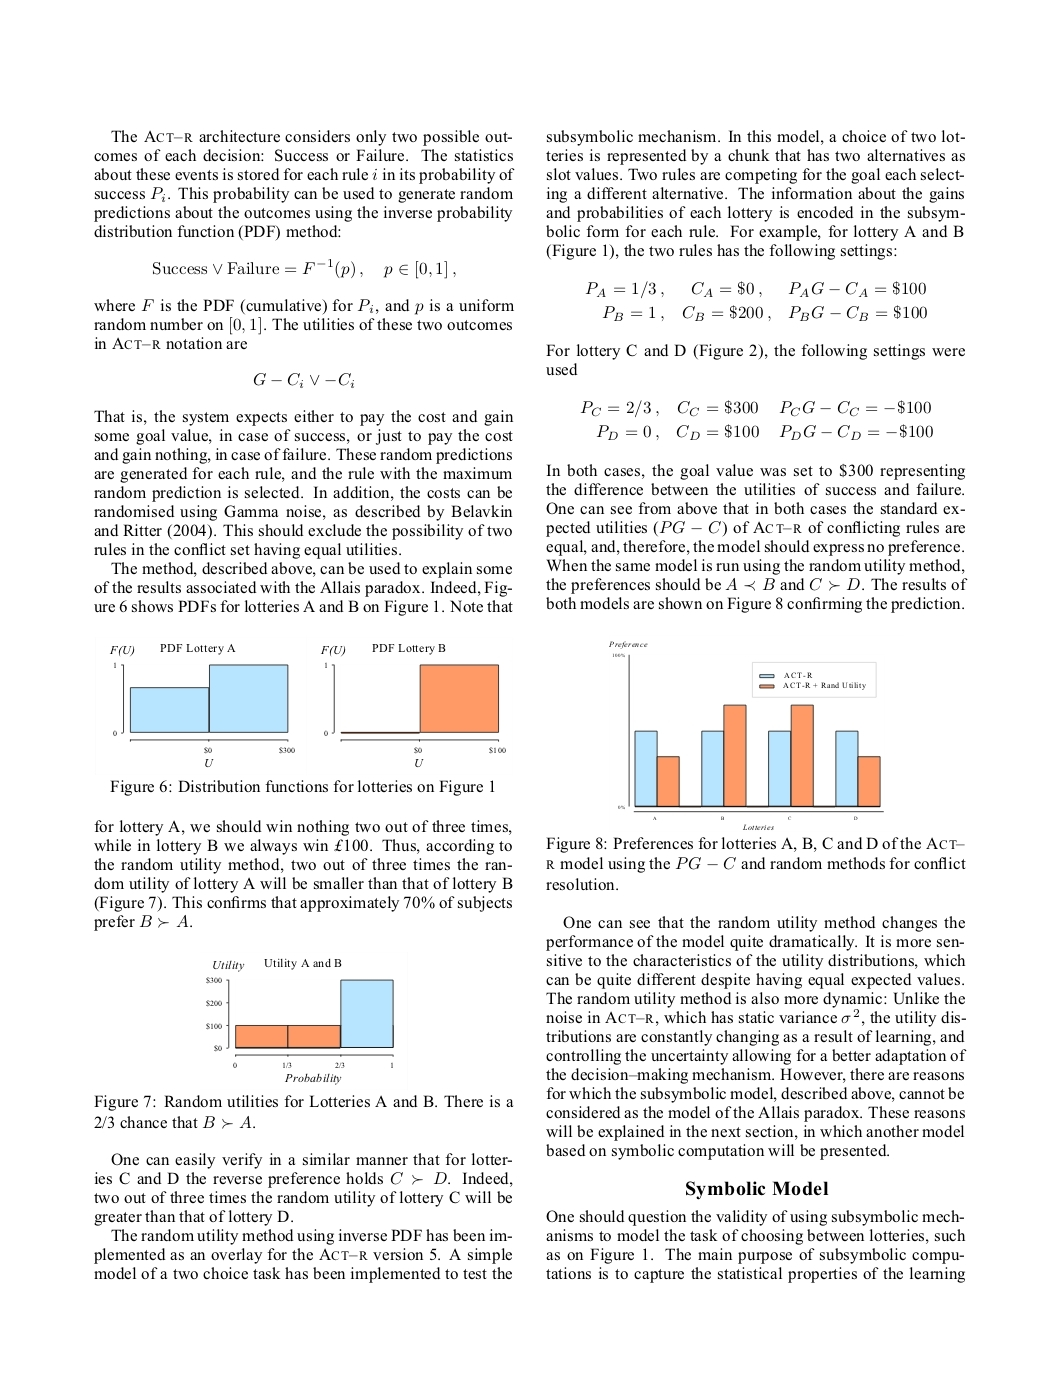figure: (609, 641, 883, 829), (206, 958, 393, 1084), (110, 644, 294, 767), (321, 644, 505, 767)
formula: (580, 399, 929, 418), (585, 280, 925, 299), (153, 259, 455, 279), (596, 423, 932, 440), (602, 304, 926, 321), (253, 372, 354, 388)
